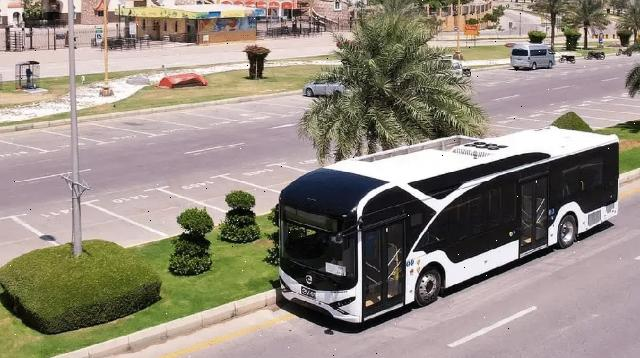Bus: (262, 126, 637, 329)
